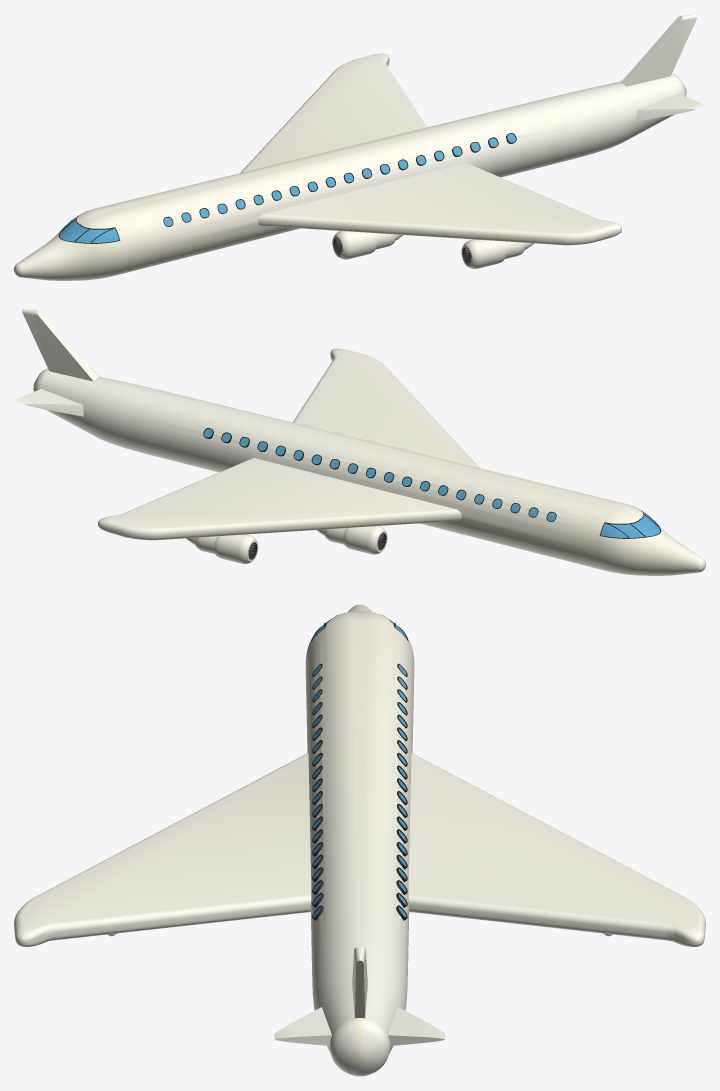
The model's file is styloo-planehuge.glb.
3 renders of one model, top to bottom at view 1: azimuth 30°, elevation 25°; view 2: azimuth 150°, elevation 25°; view 3: azimuth 270°, elevation 25°, orthographic. The views are drawn at different scales.
Parts seen in each view (by area): view 1: Cylinder.001; view 2: Cylinder.001; view 3: Cylinder.001.
Boxes of the visible parts, x1=… form: Cylinder.001: x1=14, y1=14, x2=705, y2=280; Cylinder.001: x1=14, y1=309, x2=705, y2=575; Cylinder.001: x1=14, y1=604, x2=705, y2=1076.
Bounding box in the file's own units: 34.24 × 5.6 × 20.85.
Materials: 1 (1 with a texture image).
